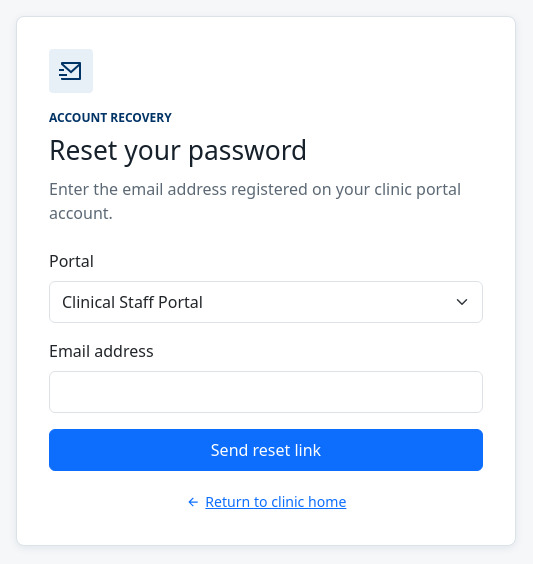
Scenario: forgot password form submits a generic recovery request
The width and height of the screenshot is (533, 564).
Type "user@clinic.test" into the field labelled "Email address". click: (266, 392)
box: [49,372,483,414]
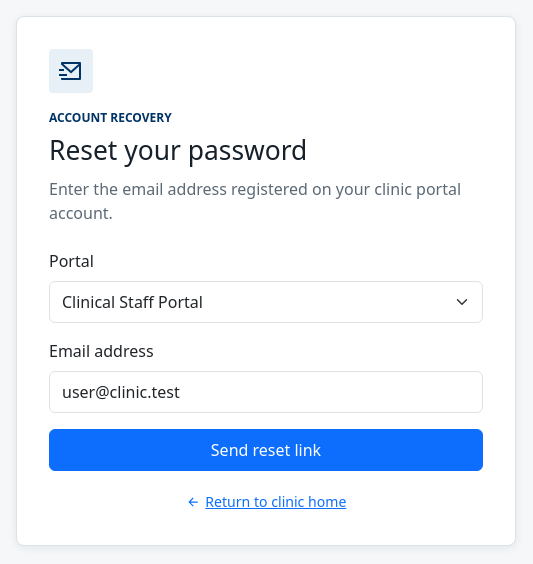
Click the button "Send reset link". click: (266, 450)
box: [49,430,483,472]
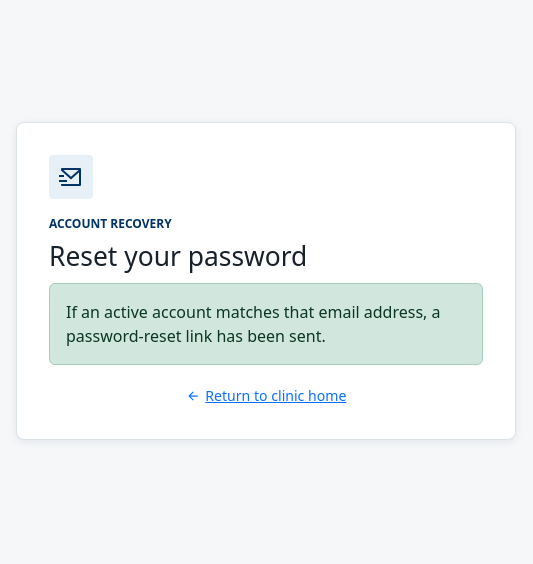
Expected: the text "If an active account matches" is shown, [66,302,440,348]
